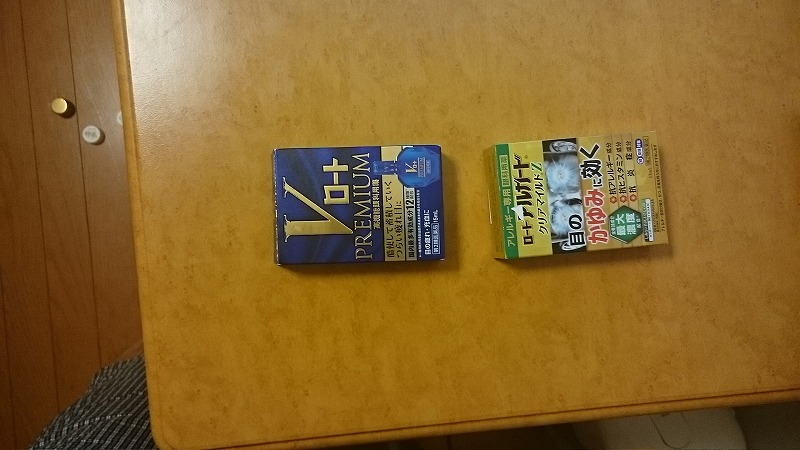C: (480, 123, 678, 260)
D: (265, 143, 449, 266)
